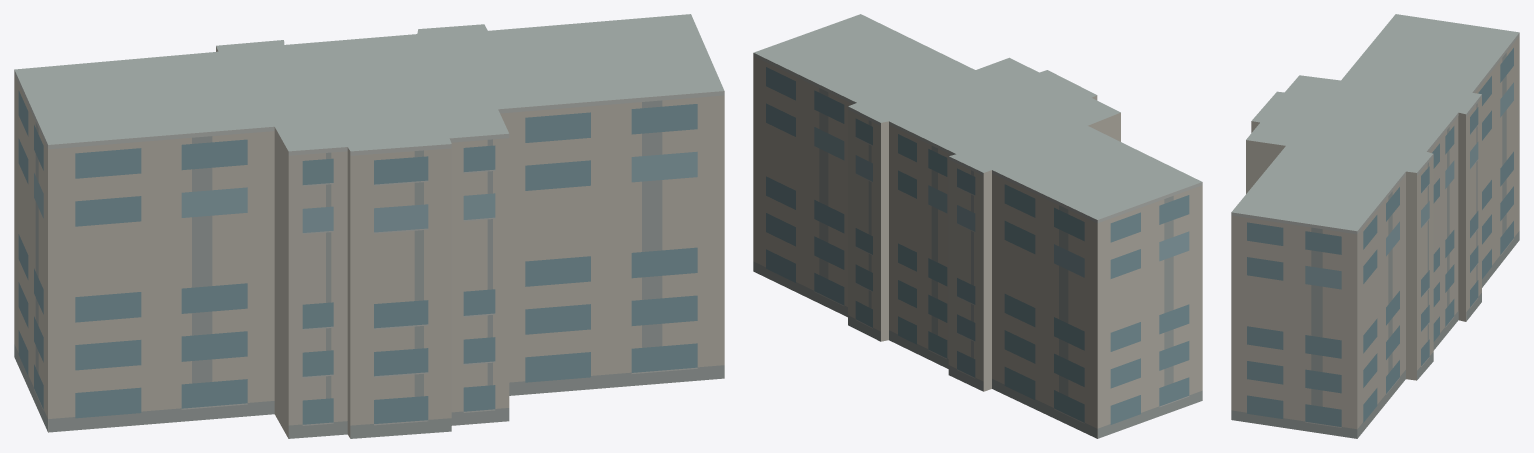
File: survey-upis-32829332.glb
3 renders of one model, left to right at view 1: azimuth 30°, elevation 25°; view 2: azimuth 150°, elevation 25°; view 3: azimuth 270°, elevation 25°, orthographic. The views are drawn at different scales.
Parts seen in each view (by area): view 1: survey-upis-32829332.tmp; view 2: survey-upis-32829332.tmp; view 3: survey-upis-32829332.tmp.
Boxes of the visible parts, x1,y1,x2,y2 form: survey-upis-32829332.tmp: (14, 14, 724, 438); survey-upis-32829332.tmp: (753, 14, 1202, 438); survey-upis-32829332.tmp: (1231, 14, 1519, 438).
Size of the model in its own units: 35.91 by 16 by 20.15.
